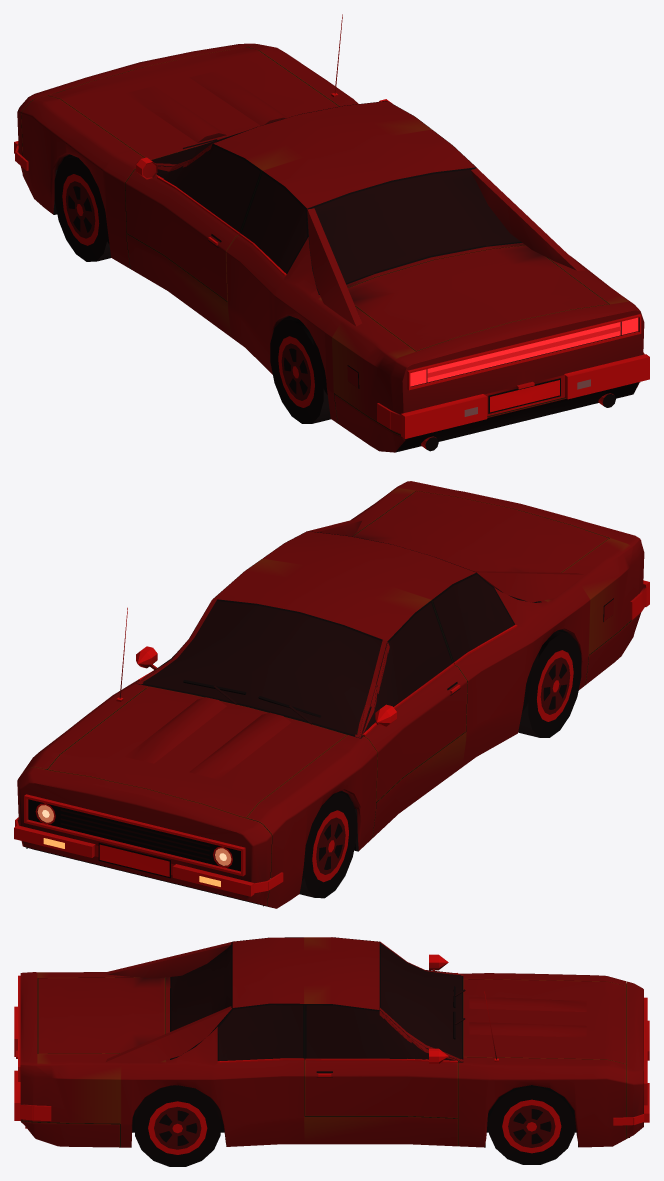
The model's file is body.glb.
3 views of the same model, one above another, from view 1: azimuth 30°, elevation 25°; view 2: azimuth 150°, elevation 25°; view 3: azimuth 270°, elevation 25° (orthographic). The views are drawn at different scales.
Visible parts, largest first — view 1: body, trunk, hood, glass_backlight, fender_fl, door_l, bumper_blade_r, wheel_rl_mesh, glass_door_l, wheel_fl_mesh, hood_bulge, glass_quarter_l (+11 smaller); view 2: body, glass_windshield, hood, trunk, bumper_f, fender_fl, door_l, grille, wheel_rl_mesh, hood_bulge, glass_door_l, wheel_fl_mesh (+8 smaller); view 3: body, hood, fender_fr, trunk, door_r, glass_windshield, wheel_rr_mesh, wheel_fr_mesh, glass_door_r, glass_quarter_r, glass_backlight, hood_bulge (+12 smaller).
Part boxes in pixels (<box>): body: <box>127,101,644,434</box>; trunk: <box>348,245,608,351</box>; hood: <box>48,47,338,160</box>; glass_backlight: <box>307,169,522,284</box>; fender_fl: <box>21,95,143,268</box>; door_l: <box>125,169,238,301</box>; bumper_blade_r: <box>377,352,649,438</box>; wheel_rl_mesh: <box>270,317,336,423</box>; glass_door_l: <box>156,145,261,232</box>; wheel_fl_mesh: <box>54,156,128,261</box>; hood_bulge: <box>125,70,287,142</box>; glass_quarter_l: <box>241,173,308,273</box>; body: <box>200,481,644,837</box>; glass_windshield: <box>139,601,382,736</box>; hood: <box>48,686,347,818</box>; trunk: <box>353,491,608,572</box>; bumper_f: <box>17,767,271,906</box>; fender_fl: <box>247,735,377,908</box>; door_l: <box>364,665,467,802</box>; grille: <box>24,794,245,876</box>; wheel_rl_mesh: <box>518,631,581,737</box>; hood_bulge: <box>125,697,290,779</box>; glass_door_l: <box>361,601,451,736</box>; wheel_fl_mesh: <box>271,792,356,898</box>; body: <box>20,937,457,1147</box>; hood: <box>463,979,626,1063</box>; fender_fr: <box>457,1057,626,1147</box>; trunk: <box>38,977,164,1053</box>; door_r: <box>305,1060,457,1118</box>; glass_windshield: <box>381,943,461,1060</box>; wheel_rr_mesh: <box>135,1085,220,1166</box>; wheel_fr_mesh: <box>489,1085,574,1164</box>; glass_door_r: <box>306,1005,455,1060</box>; glass_quarter_r: <box>218,1003,304,1060</box>; glass_backlight: <box>171,942,232,1059</box>; hood_bulge: <box>469,997,586,1037</box>.
Size of the model in its own units: 1.94 by 1.48 by 5.1.
